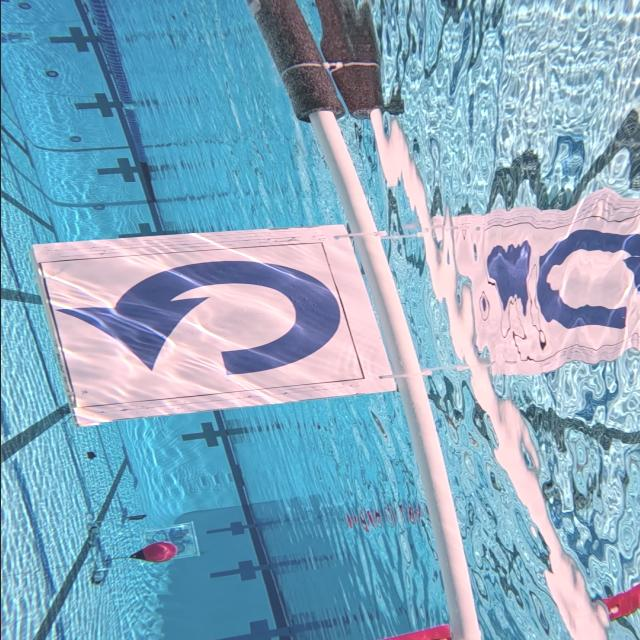blue_side: (31, 220, 397, 436)
